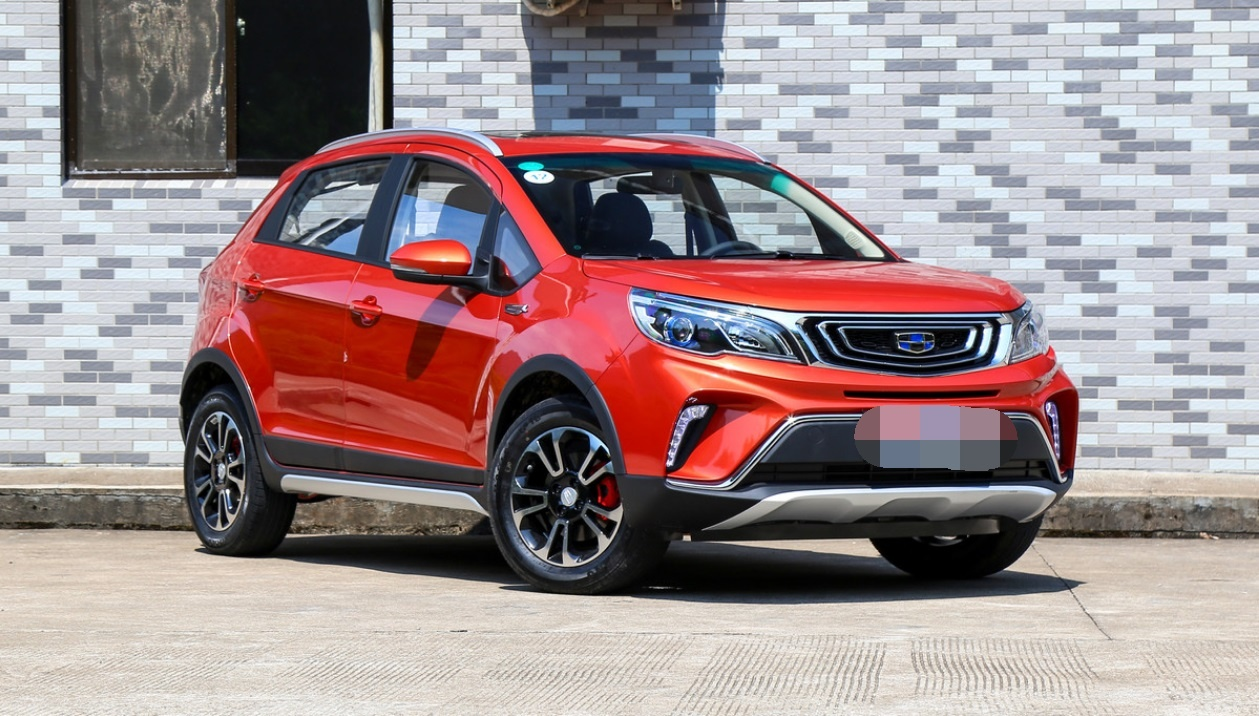SUV: (163, 113, 1096, 619)
